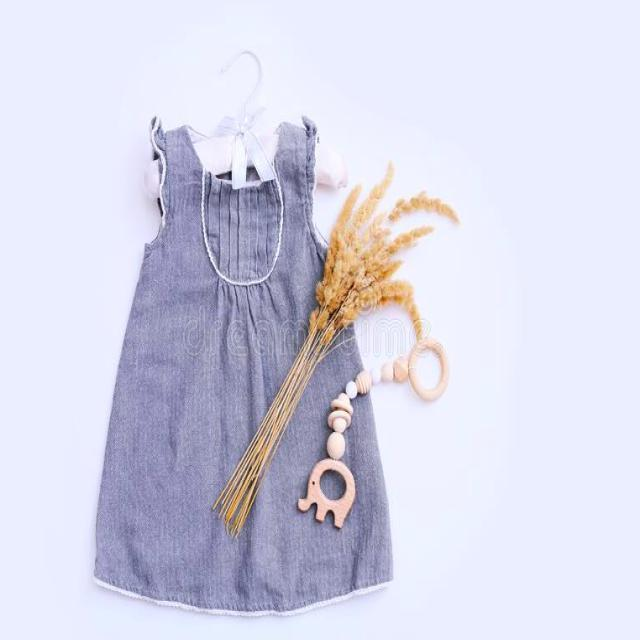clothes: (134, 103, 366, 624)
